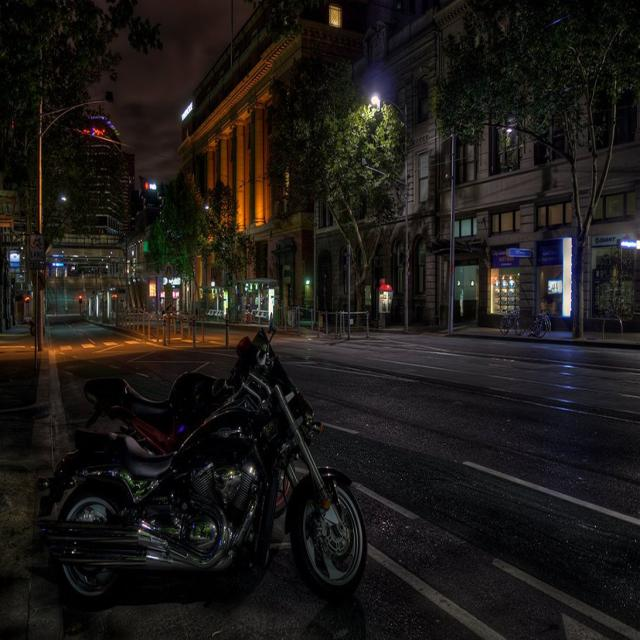Bicycle: (500, 300, 529, 350), (531, 305, 562, 346)
Motorbike: (34, 314, 374, 628)
